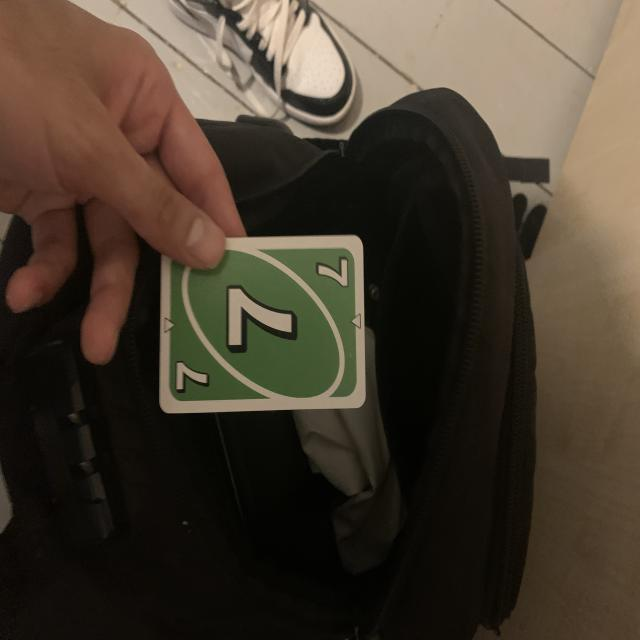lgreen-7: (312, 248, 352, 290)
